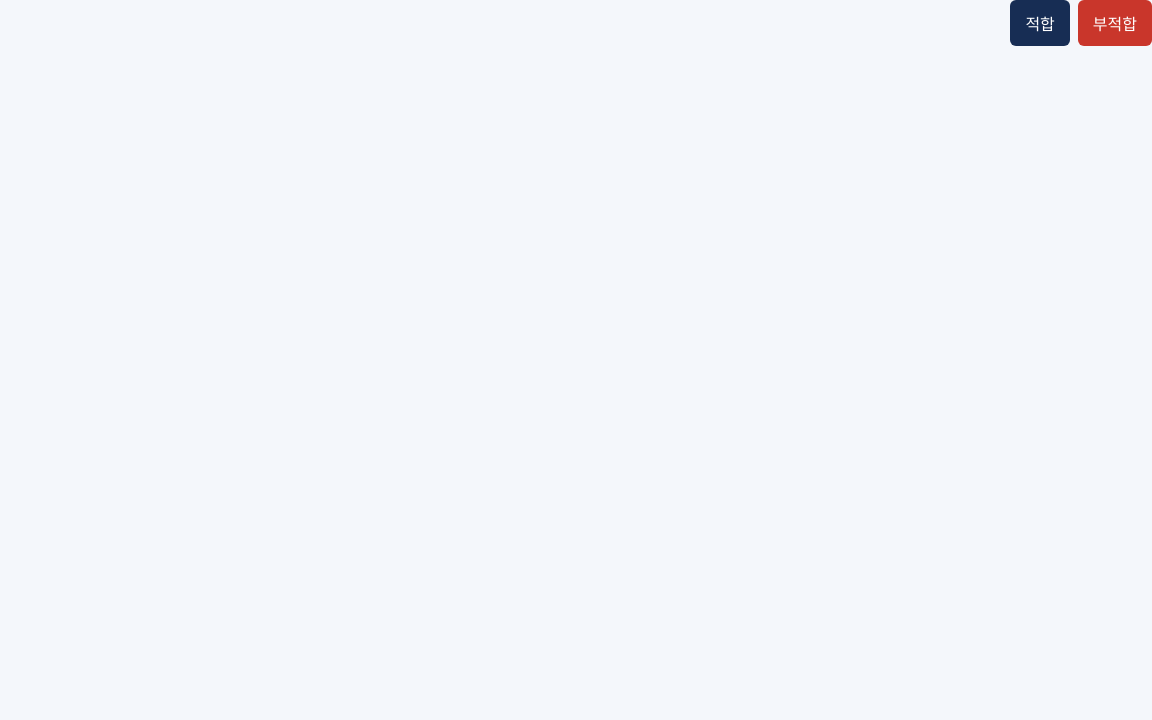
ReviewDecisionForm › requires confirmation for approve and a reason for reject
The image size is (1152, 720).
Later steps or results of the test are not shown.
Click the button "적합" at [1040, 23], box [1010,0,1070,46]
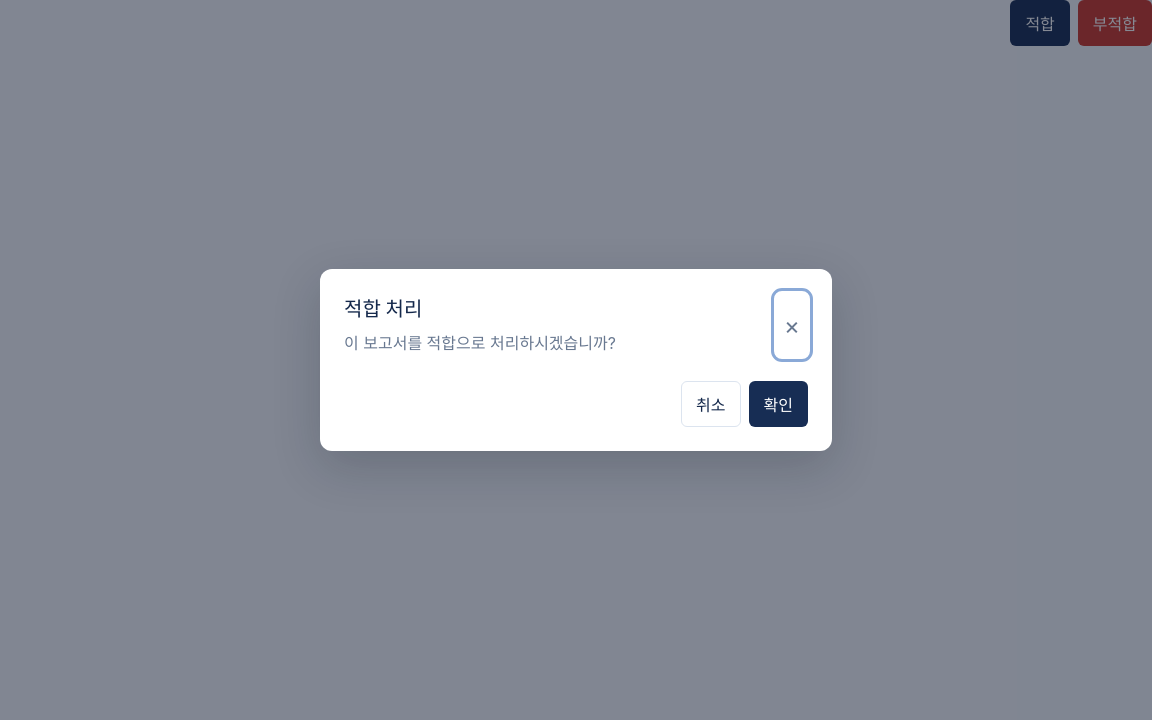
Result: the dialog "적합 처리" is shown at [320,269,832,451]
